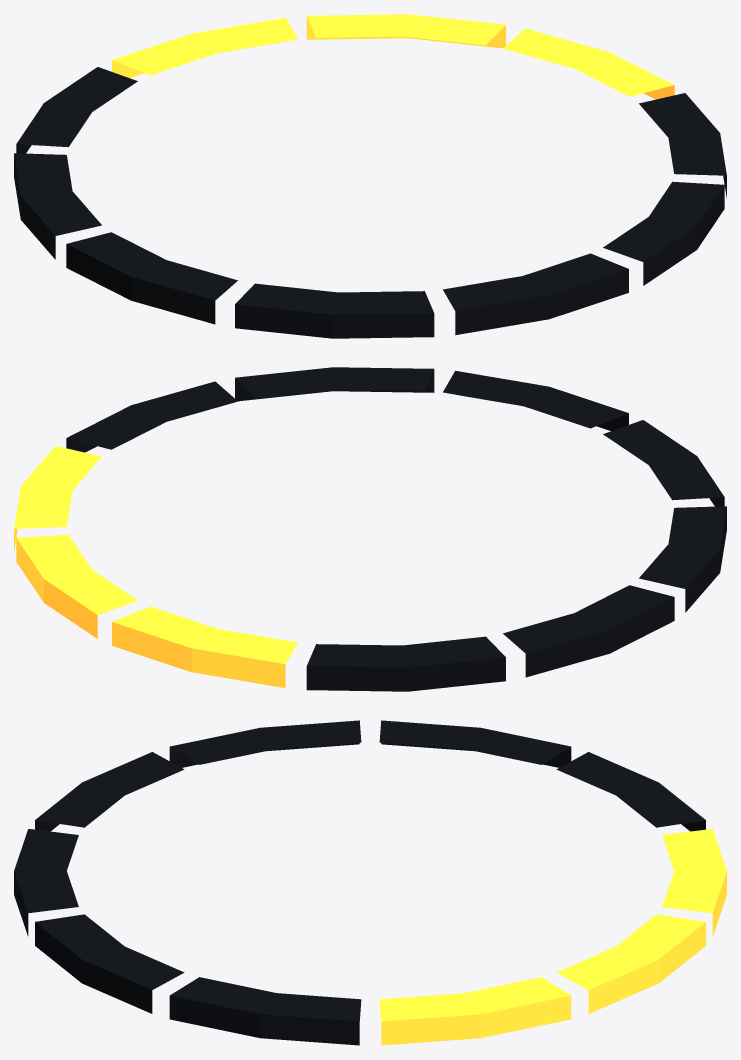
Rendered from hpr_3.glb.
3 views of the same model, one above another, from view 1: azimuth 30°, elevation 25°; view 2: azimuth 150°, elevation 25°; view 3: azimuth 270°, elevation 25° (orthographic).
Parts seen in each view (by area): view 1: hpr_3; view 2: hpr_3; view 3: hpr_3.
Boxes of the visible parts, left/top/right/bottom form: hpr_3: left=14, top=14, right=726, bottom=338; hpr_3: left=14, top=367, right=726, bottom=691; hpr_3: left=14, top=720, right=726, bottom=1045.
Bounding box in the file's own units: 2.16 × 0.08 × 2.16.
